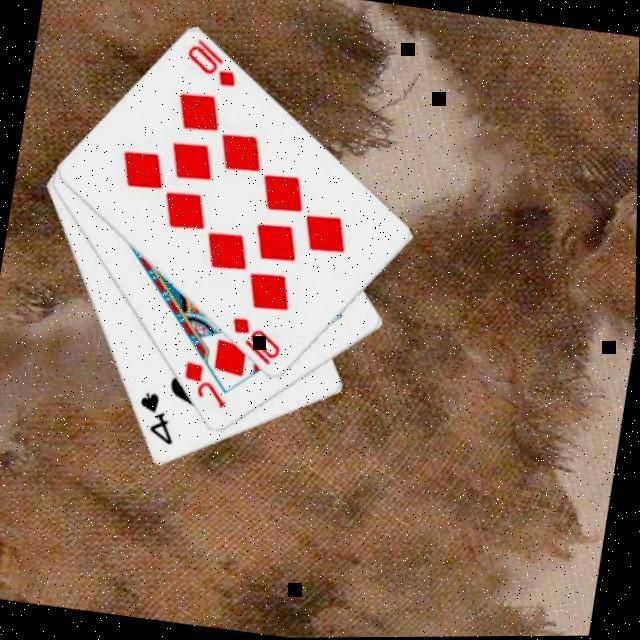10D: (180, 36, 245, 94), (225, 315, 290, 372)
4S: (133, 389, 185, 451)
JD: (178, 360, 237, 415)
